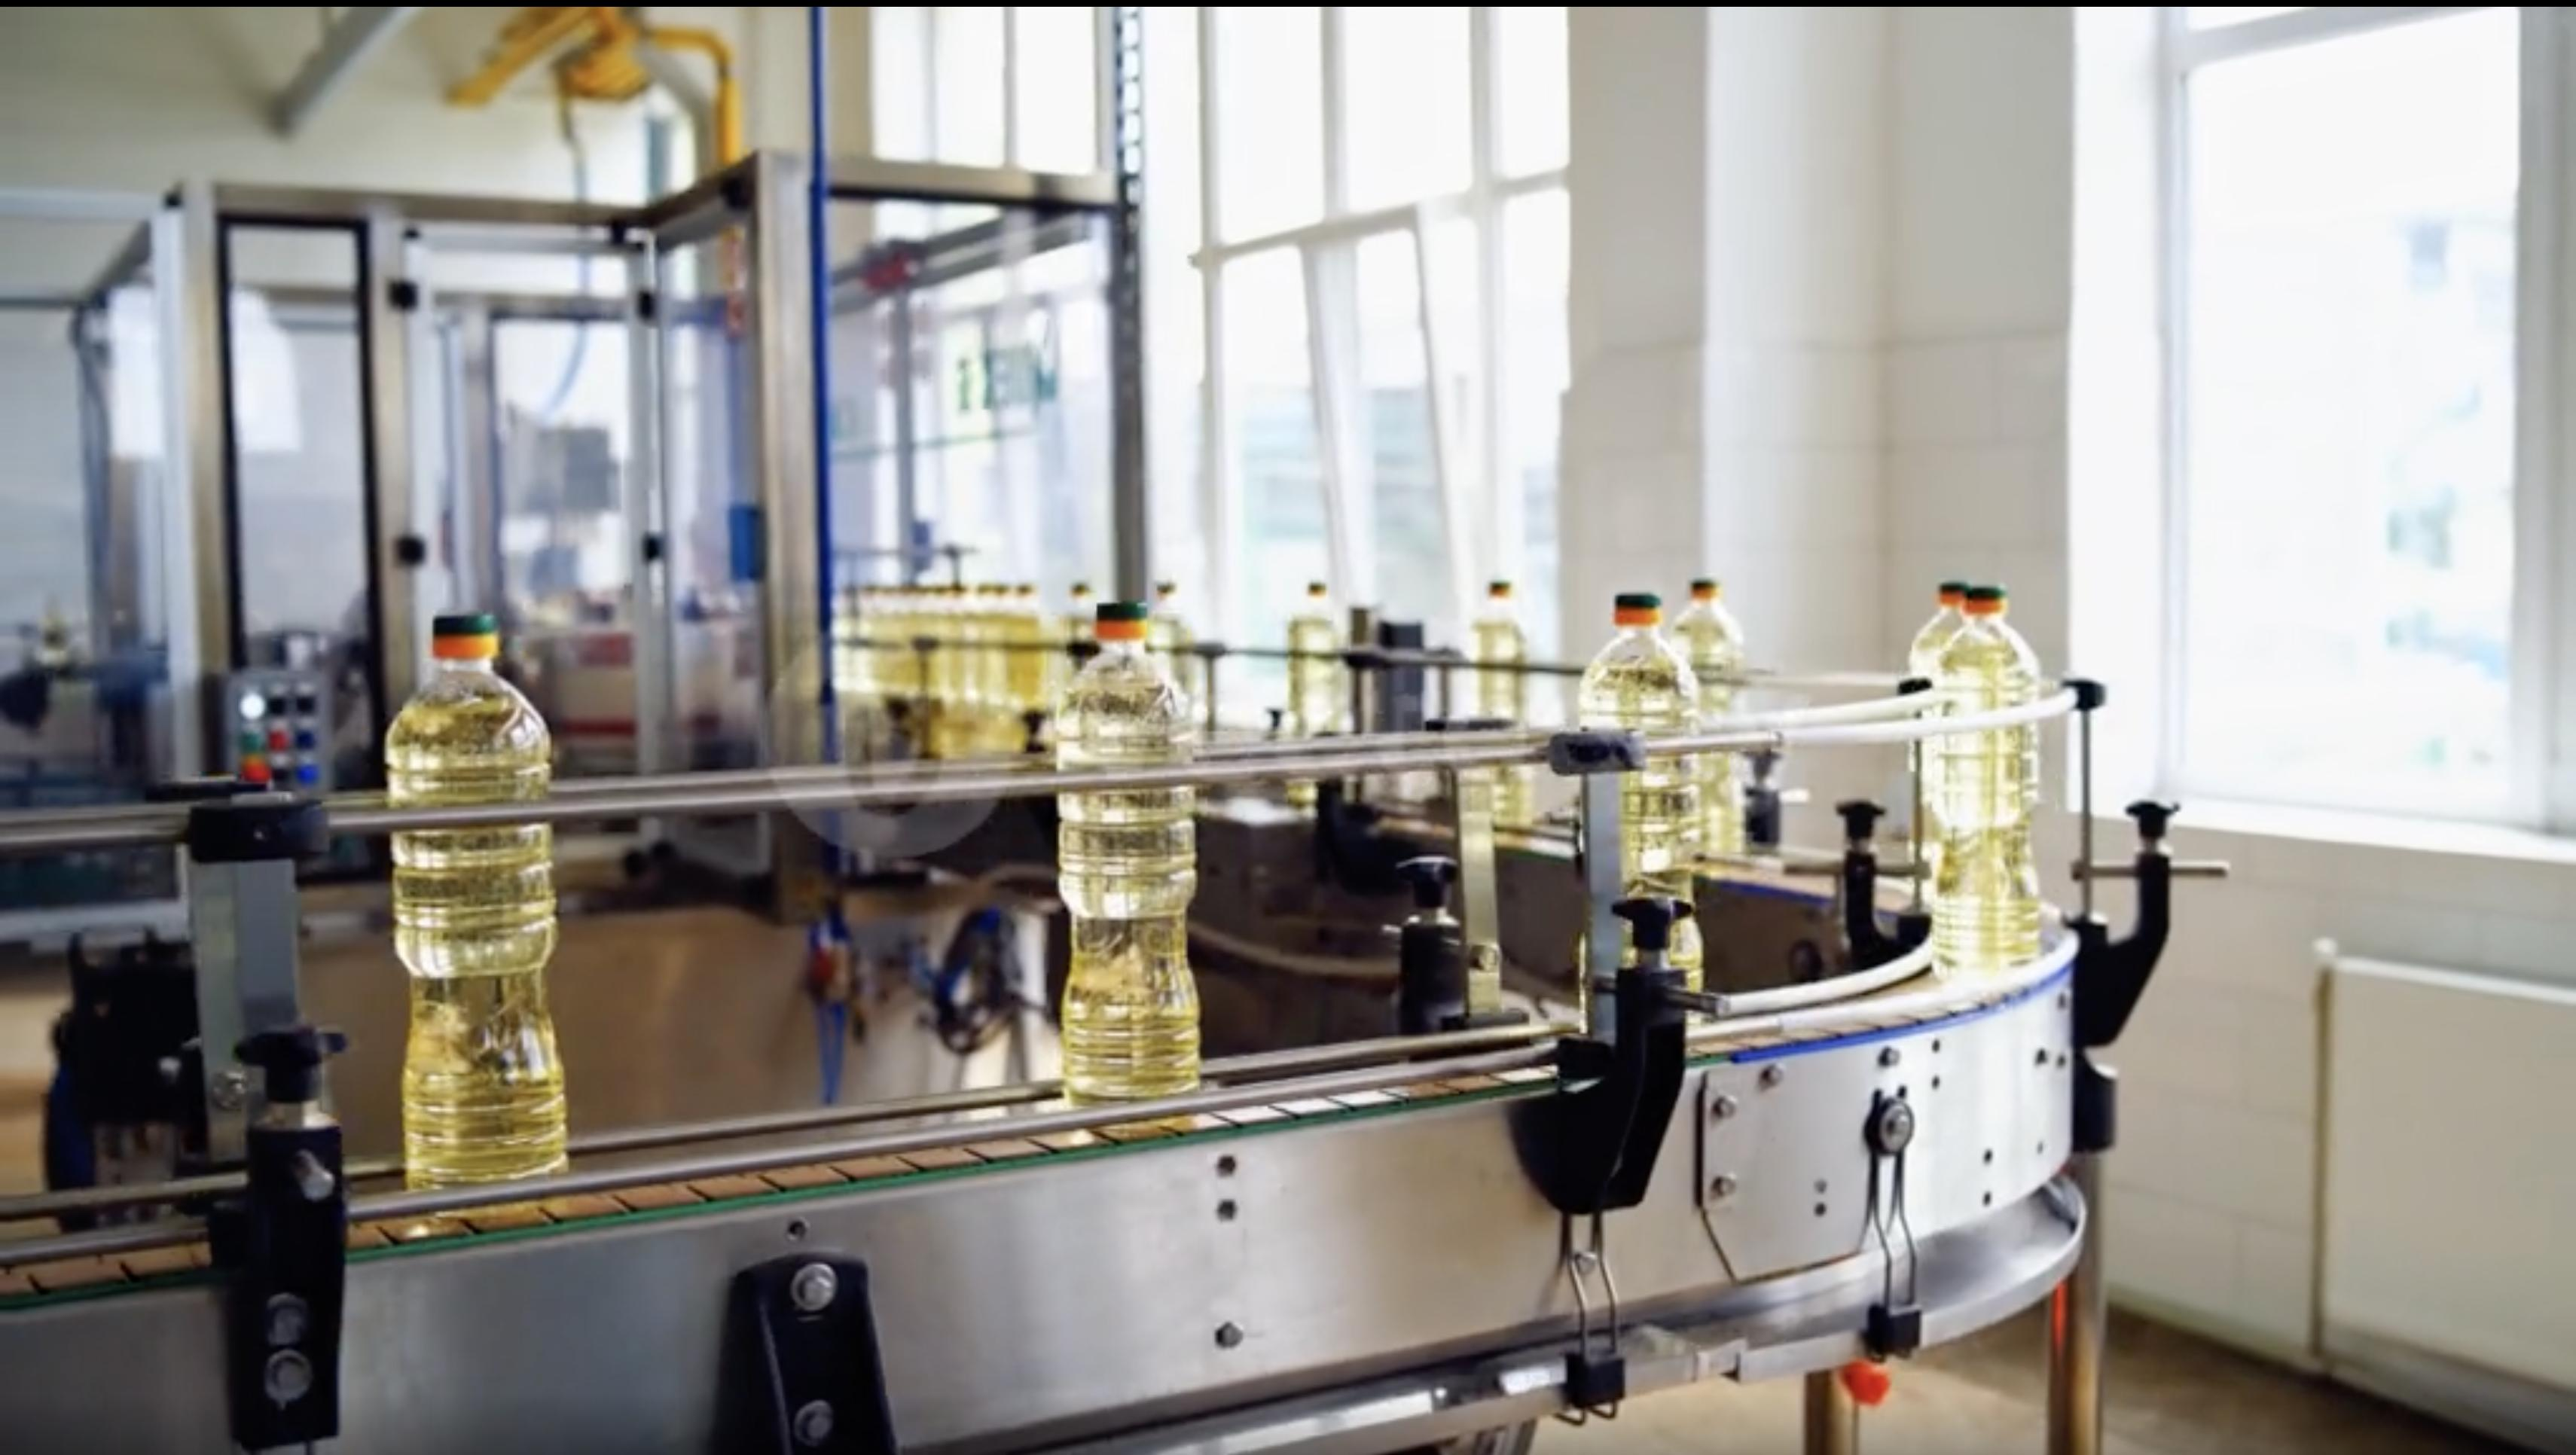bottle: (349, 615, 609, 1206), (1054, 599, 1217, 1112), (1591, 587, 1716, 1018), (1937, 596, 2047, 956), (1458, 576, 1534, 827), (1284, 580, 1343, 764)
